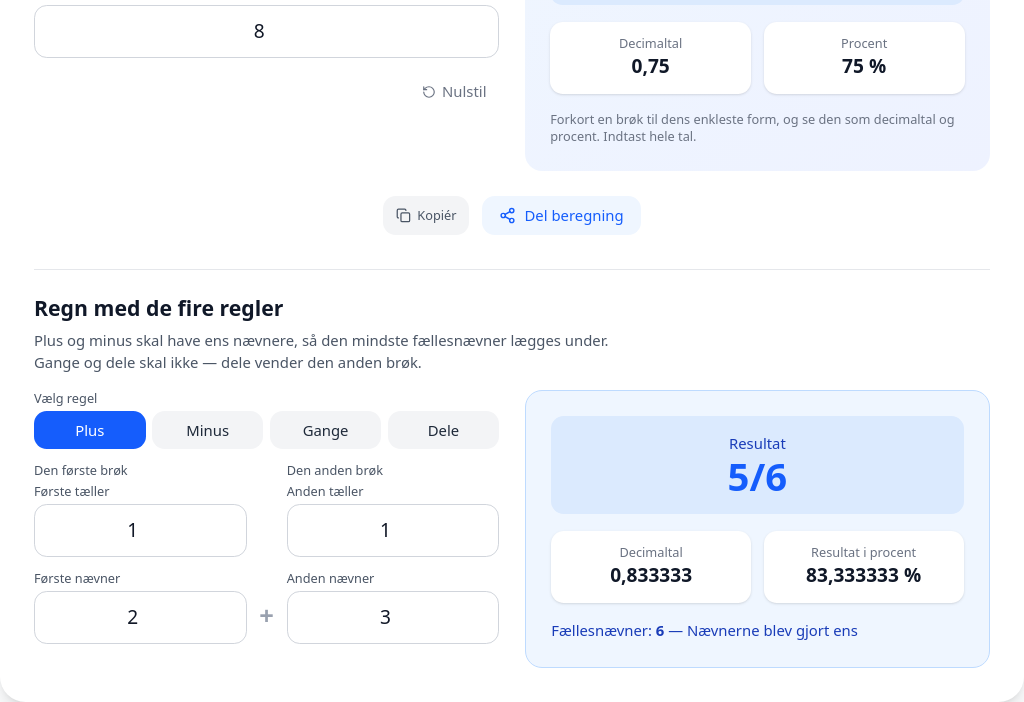
/brok regner på det tal der står i feltet › et decimal i en nævner vises også som det hele tal der regnes på
This screenshot has width=1024, height=702.
(page scrolled)
Replace the text in the number field with id "brok-n1" with "4.4": (140, 618) [34,592,247,644]
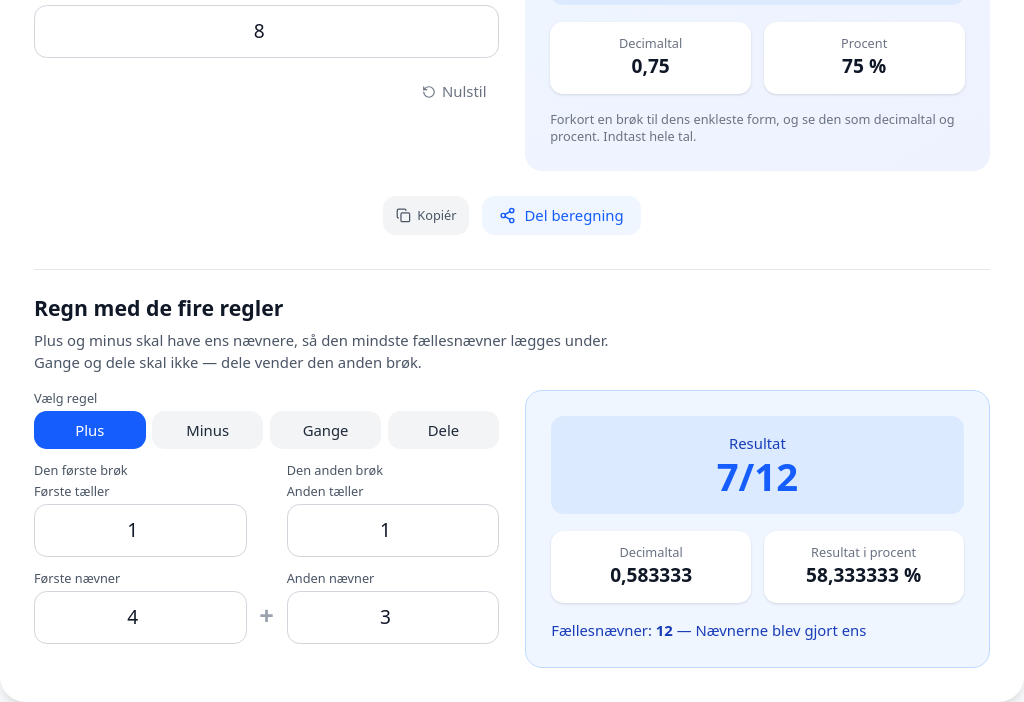
Expected: the number field with id "brok-n1" holds "4", [34,592,247,644]
